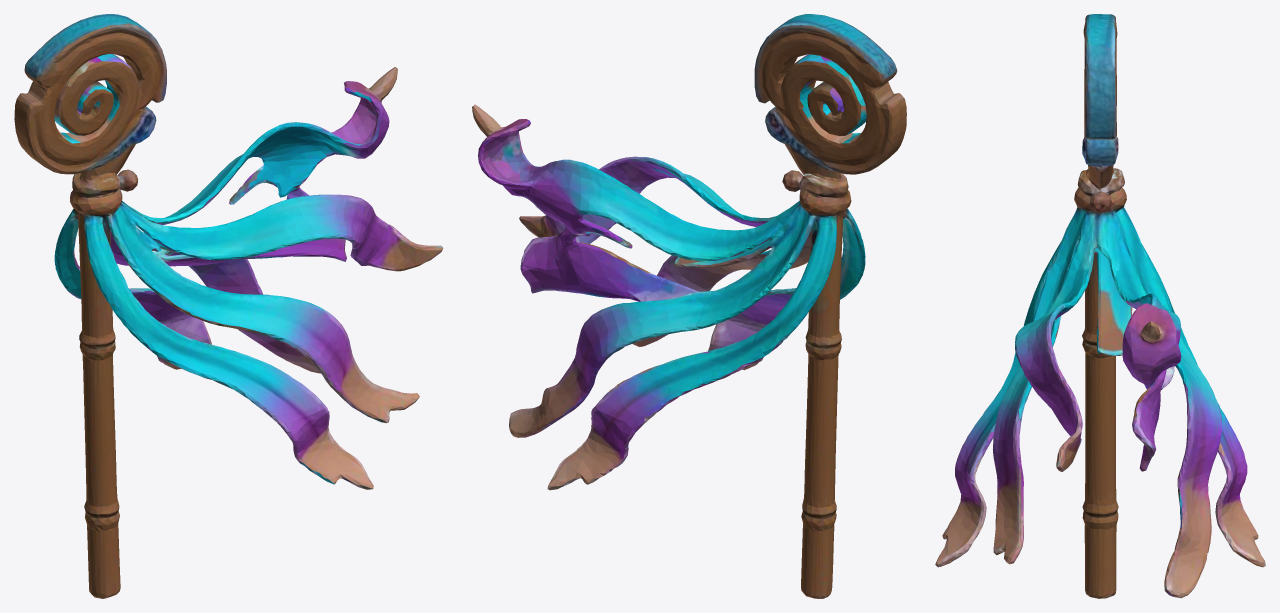
File: wind_totem.glb
The picture shows the model from 3 angles, left to right: view 1: azimuth 30°, elevation 25°; view 2: azimuth 150°, elevation 25°; view 3: azimuth 270°, elevation 25°; orthographic projection.
Visible parts, largest first — view 1: tmprqhr9p20.ply; view 2: tmprqhr9p20.ply; view 3: tmprqhr9p20.ply.
Part boxes in pixels (<box>): tmprqhr9p20.ply: <box>14,14,443,598</box>; tmprqhr9p20.ply: <box>472,14,906,598</box>; tmprqhr9p20.ply: <box>935,14,1265,598</box>.
Size of the model in its own units: 1.46 by 1.99 by 1.05.
1 material, 1 textured.
